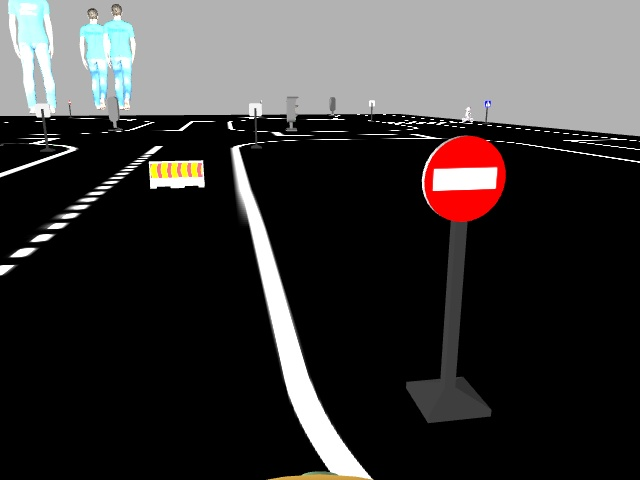ClosedRoadStand: (150, 162, 205, 189)
NoEntry: (425, 136, 504, 216)
